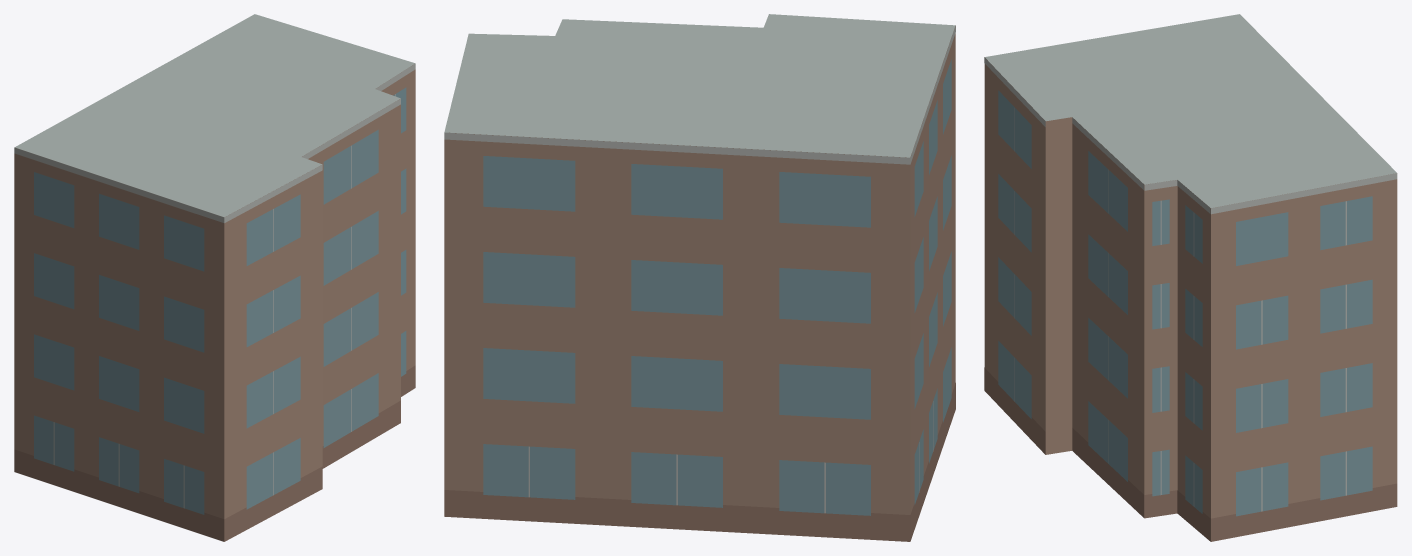
File: survey-upis-32725924.glb
The picture shows the model from 3 angles, left to right: view 1: azimuth 30°, elevation 25°; view 2: azimuth 150°, elevation 25°; view 3: azimuth 270°, elevation 25°; orthographic projection. The views are drawn at different scales.
Parts seen in each view (by area): view 1: survey-upis-32725924.tmp; view 2: survey-upis-32725924.tmp; view 3: survey-upis-32725924.tmp.
Part boxes in pixels (box(x1,y1,x2,y2)): survey-upis-32725924.tmp: box(14, 14, 415, 541); survey-upis-32725924.tmp: box(444, 14, 955, 541); survey-upis-32725924.tmp: box(984, 14, 1397, 541).
Bounding box in the file's own units: 16.61 × 13.3 × 14.92.
